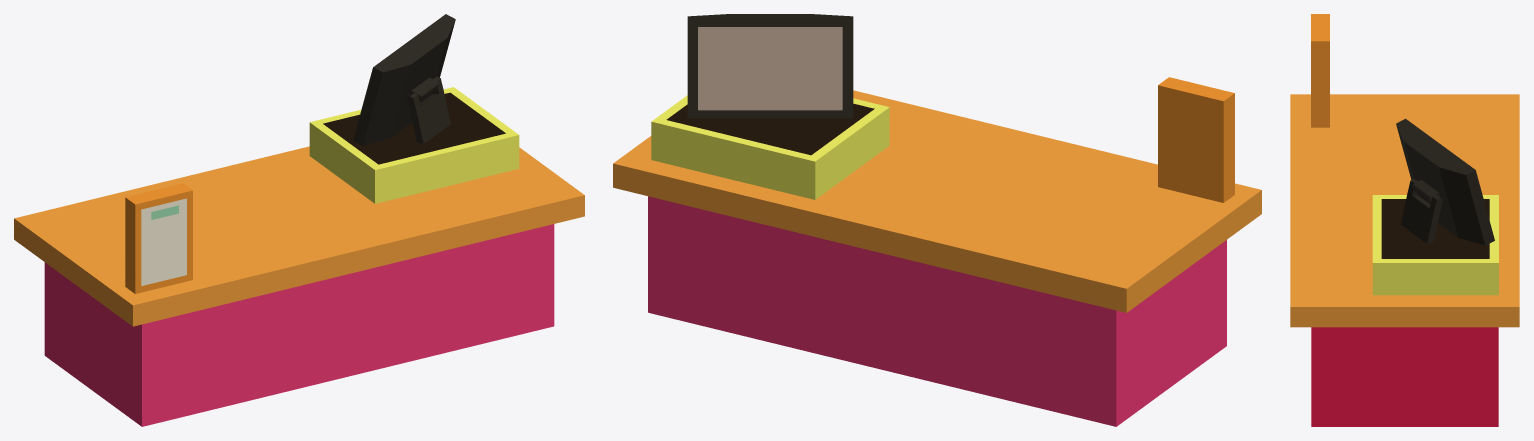
File: DriveThruCounter.fbx
3 renders of one model, left to right at view 1: azimuth 30°, elevation 25°; view 2: azimuth 150°, elevation 25°; view 3: azimuth 270°, elevation 25°, orthographic. The views are drawn at different scales.
Parts seen in each view (by area): view 1: DriveThruCounter; view 2: DriveThruCounter; view 3: DriveThruCounter.
Part boxes in pixels (<box>): DriveThruCounter: <box>14,14,584,426</box>; DriveThruCounter: <box>613,14,1261,426</box>; DriveThruCounter: <box>1290,14,1519,426</box>.
Size of the model in its own units: 138 by 74.47 by 62.79.
